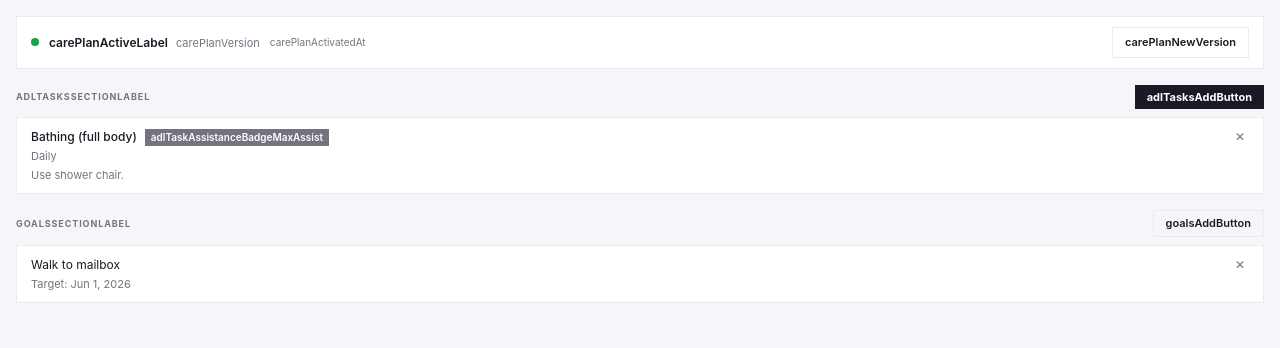
it: CarePlanTab — New Version › enters setup mode pre-populated with active plan tasks and goals
Step 1. Click the button "carePlanNewVersion" → (1180,42), box [1112, 27, 1249, 58]
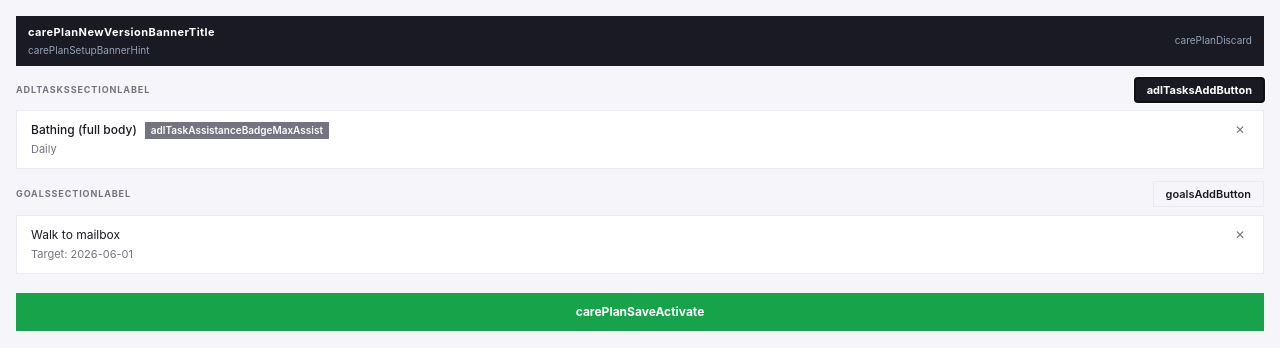
Expected: the text "Bathing (full body)" is shown, [31, 121, 137, 139]
Expected: the text "carePlanNewVersionBannerTitle" is shown, [28, 24, 215, 40]
Expected: the button "carePlanSaveActivate" is enabled, [16, 292, 1264, 330]
